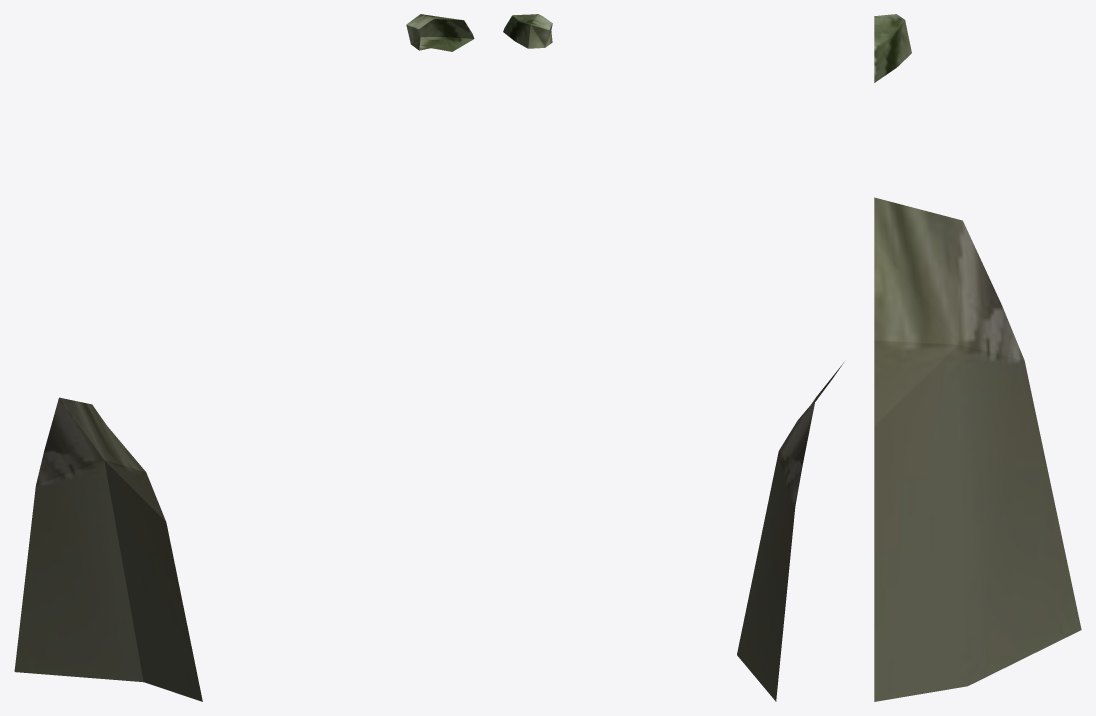
The picture shows the model from 3 angles, left to right: view 1: azimuth 30°, elevation 25°; view 2: azimuth 150°, elevation 25°; view 3: azimuth 270°, elevation 25°; orthographic projection. The views are drawn at different scales.
Size of the model in its own units: 1.46 by 2.28 by 0.5141.
Materials: 1 (1 with a texture image).
